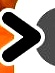menu_arrow: (1, 8, 45, 66)
